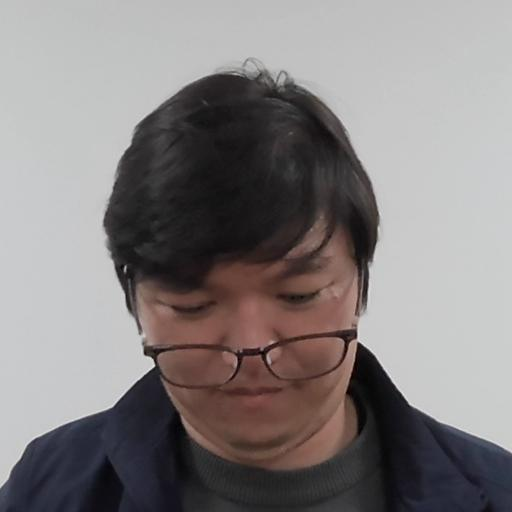no_glasses: (115, 87, 382, 447)
